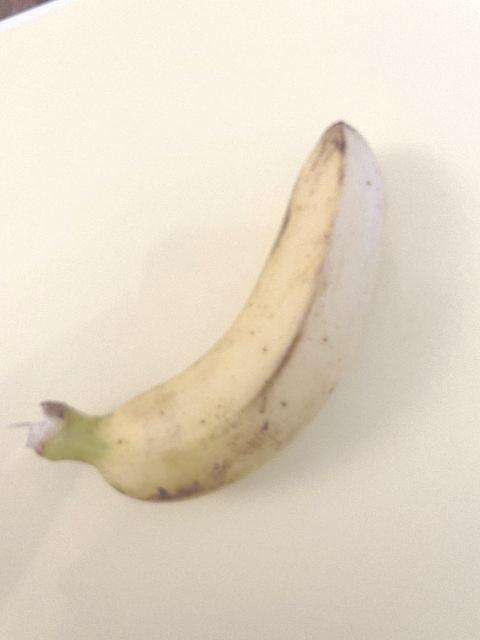banana: (22, 116, 390, 508)
